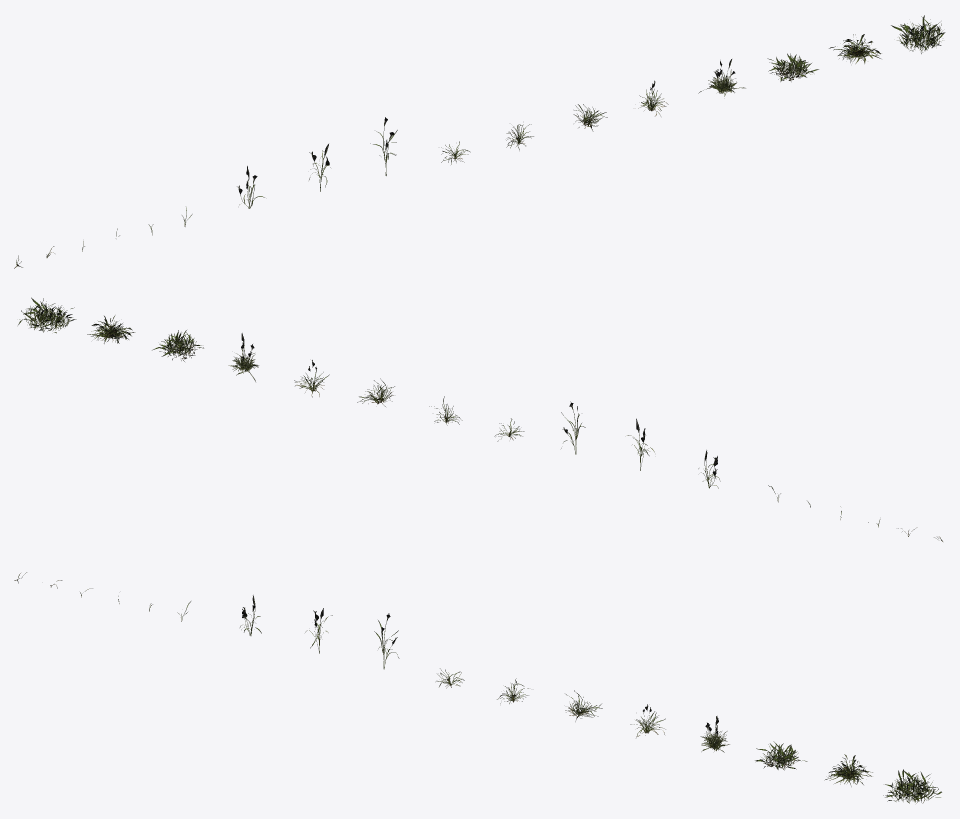
The model's file is grass_medium_01.glb.
The picture shows the model from 3 angles, top to bottom: view 1: azimuth 30°, elevation 25°; view 2: azimuth 150°, elevation 25°; view 3: azimuth 330°, elevation 25°; orthographic projection.
Parts seen in each view (by area): view 1: grass_medium_01_large_a_LOD0, grass_medium_01_large_c_LOD0, grass_medium_01_large_b_LOD0; view 2: grass_medium_01_large_a_LOD0, grass_medium_01_large_c_LOD0, grass_medium_01_large_b_LOD0; view 3: grass_medium_01_large_a_LOD0, grass_medium_01_large_c_LOD0, grass_medium_01_large_b_LOD0.
Part boxes in pixels (x1,y1,x2,y2): grass_medium_01_large_a_LOD0: [891, 15, 945, 53]; grass_medium_01_large_c_LOD0: [767, 53, 818, 81]; grass_medium_01_large_b_LOD0: [829, 34, 881, 63]; grass_medium_01_large_a_LOD0: [18, 297, 76, 333]; grass_medium_01_large_c_LOD0: [152, 330, 203, 361]; grass_medium_01_large_b_LOD0: [87, 315, 135, 343]; grass_medium_01_large_a_LOD0: [883, 769, 941, 803]; grass_medium_01_large_c_LOD0: [755, 741, 807, 770]; grass_medium_01_large_b_LOD0: [824, 754, 872, 786].
Bounding box in the file's own units: 5.59 × 0.3226 × 0.3267.
1 material, 1 textured.
